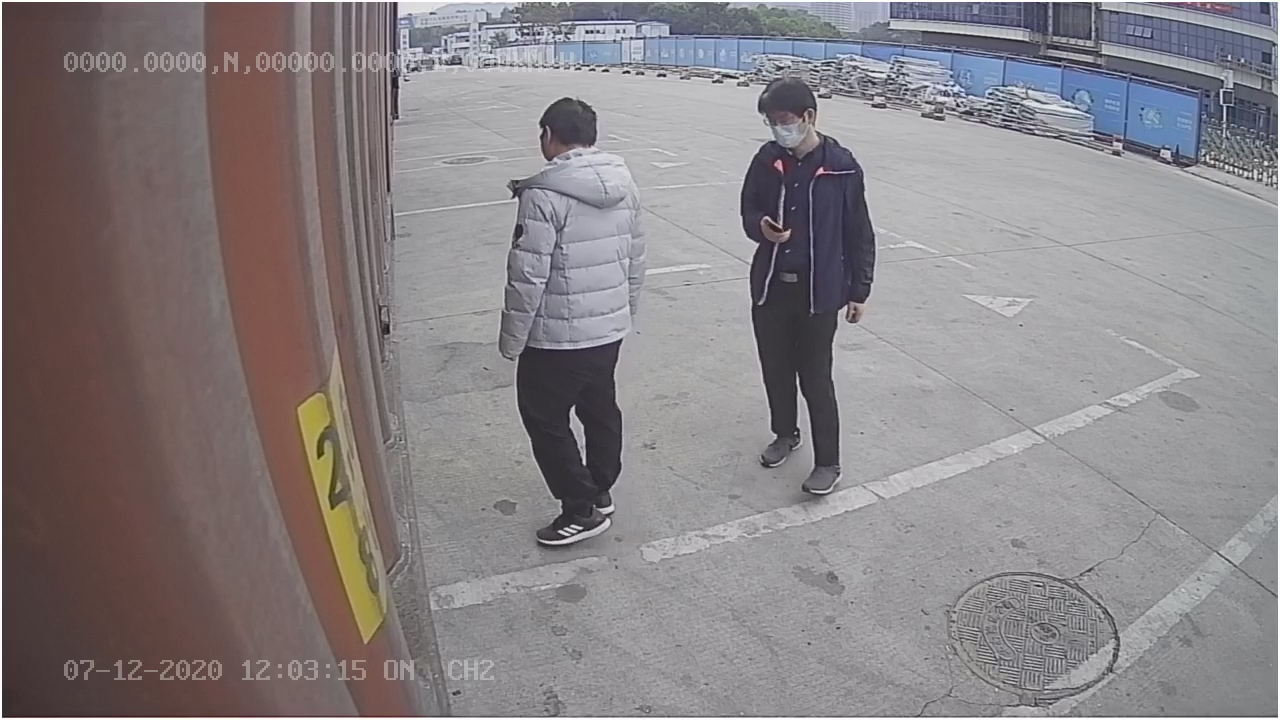person: (497, 94, 650, 548), (738, 70, 880, 502)
